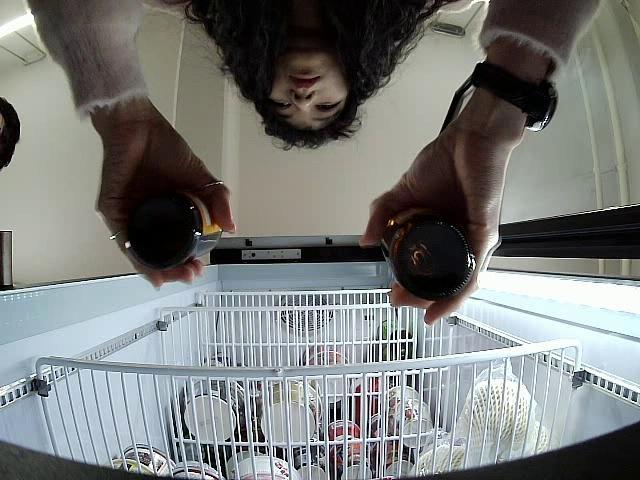17_vita500: (368, 186, 476, 302), (122, 180, 223, 272)
